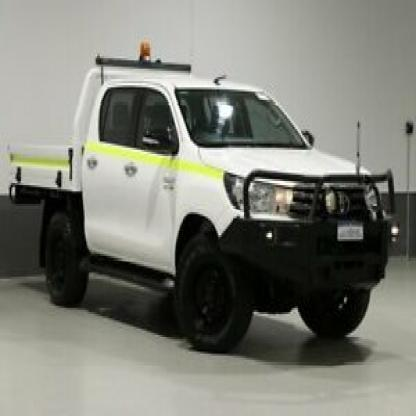light_vehicle: (9, 40, 396, 356)
